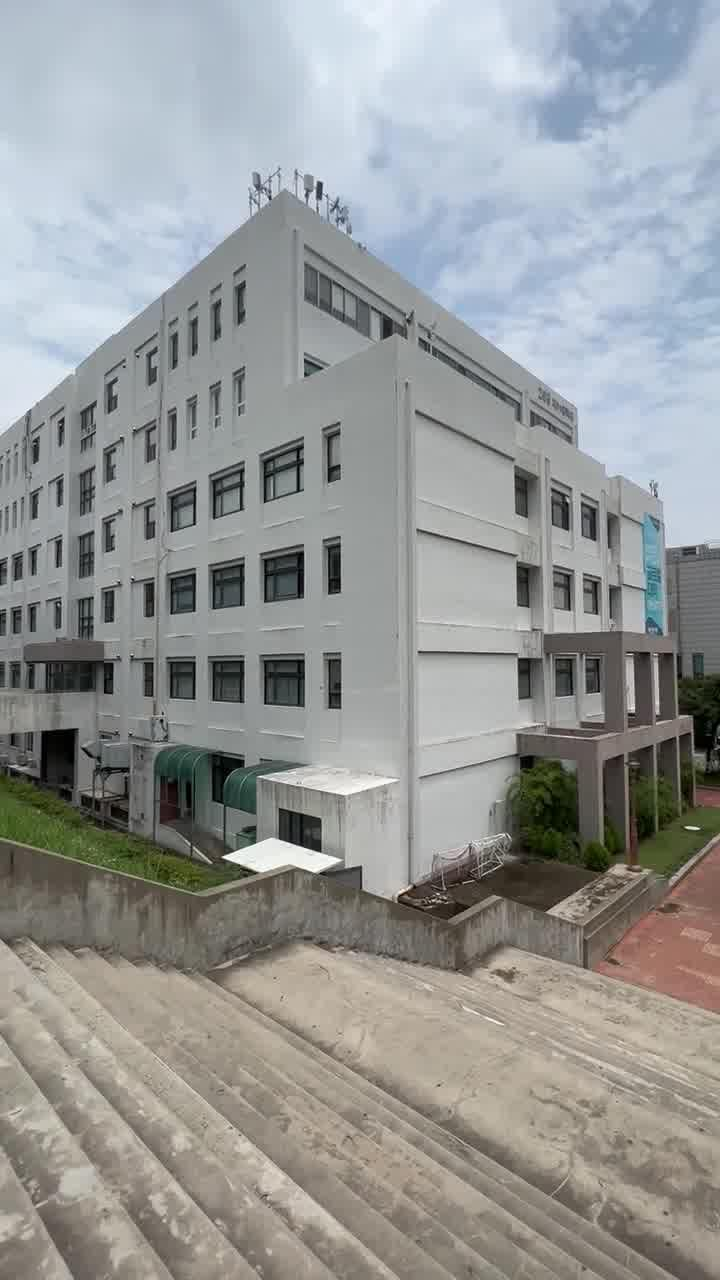building: (20, 222, 680, 822)
